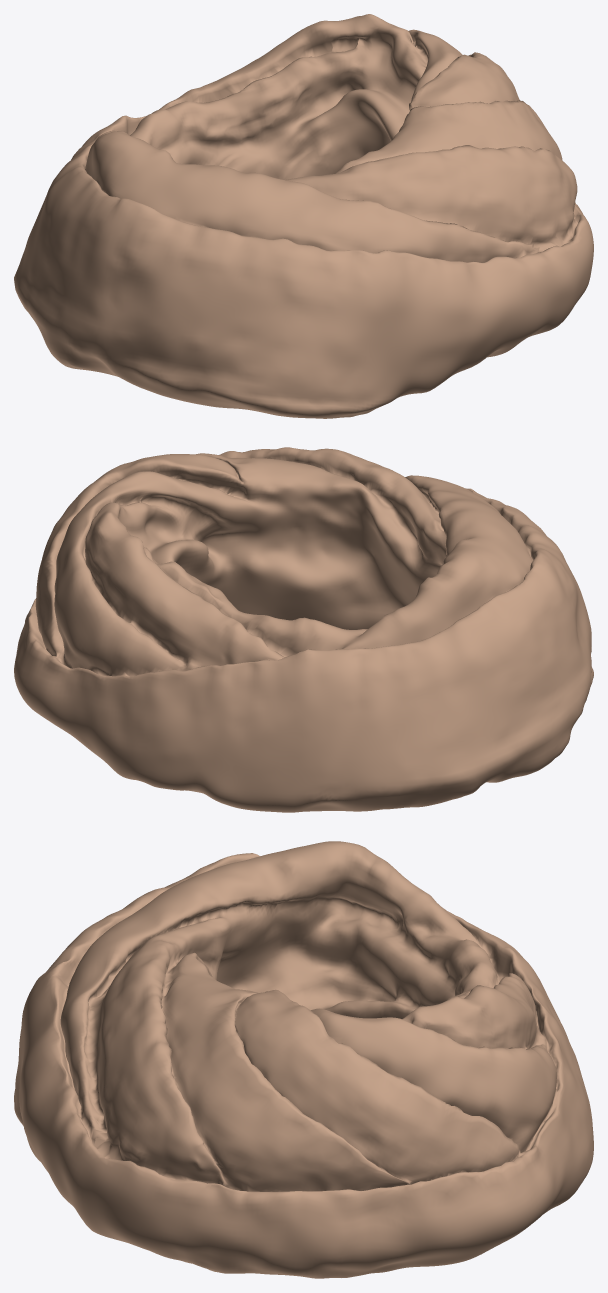
3 views of the same model, one above another, from view 1: azimuth 30°, elevation 25°; view 2: azimuth 150°, elevation 25°; view 3: azimuth 270°, elevation 25° (orthographic). The views are drawn at different scales.
Visible parts, largest first — view 1: Object001-retopo 1; view 2: Object001-retopo 1; view 3: Object001-retopo 1.
Boxes of the visible parts, x1=… form: Object001-retopo 1: x1=14, y1=14, x2=593, y2=418; Object001-retopo 1: x1=14, y1=447, x2=593, y2=812; Object001-retopo 1: x1=14, y1=841, x2=593, y2=1278.
Size of the model in its own units: 38.86 by 17.17 by 34.95.
